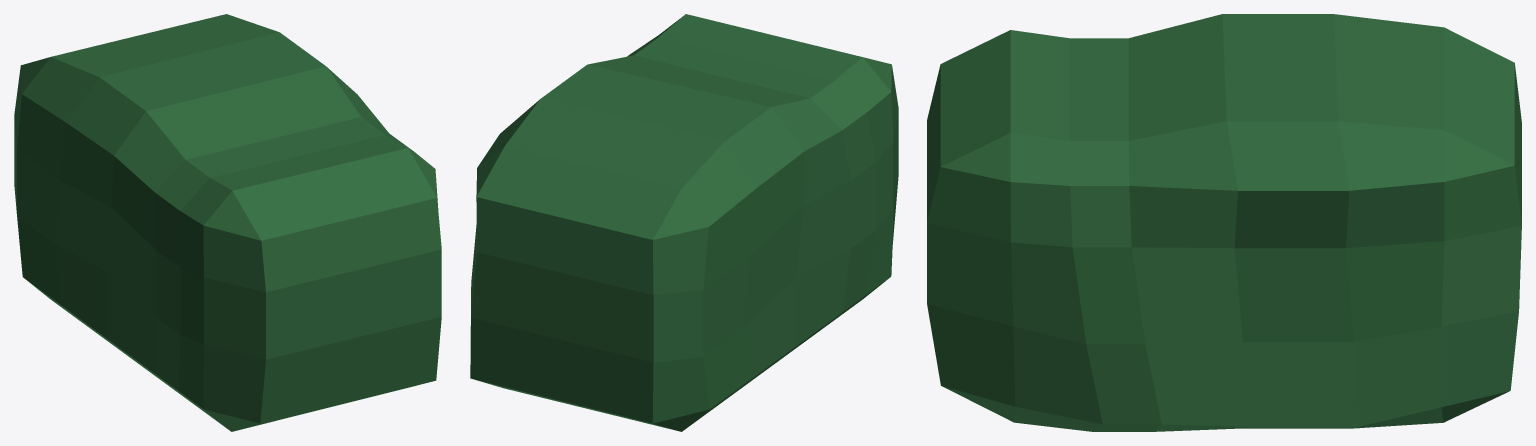
File: hedgeA.glb
3 views of the same model, side by side, from view 1: azimuth 30°, elevation 25°; view 2: azimuth 150°, elevation 25°; view 3: azimuth 270°, elevation 25° (orthographic). The views are drawn at different scales.
Parts seen in each view (by area): view 1: Cube; view 2: Cube; view 3: Cube.
Boxes of the visible parts, box(x1,y1,x2,y2) form: Cube: box(14, 14, 441, 431); Cube: box(470, 14, 898, 431); Cube: box(927, 14, 1521, 431).
Bounding box in the file's own units: 4.22 × 3.97 × 6.92.
